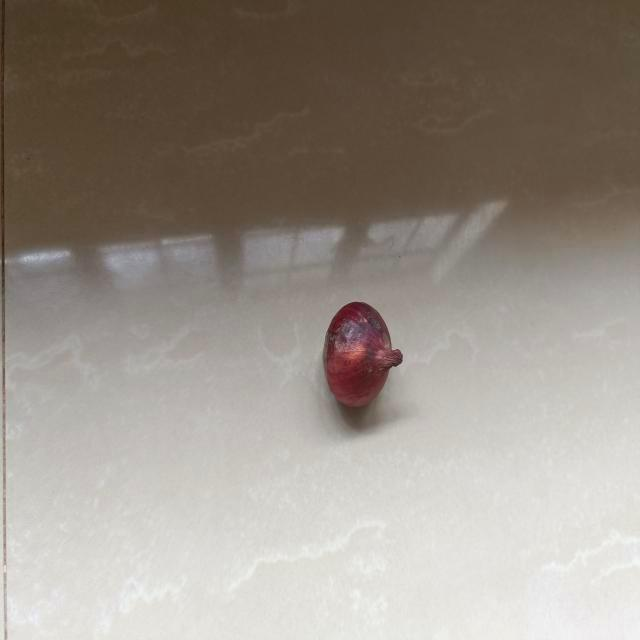onion: (319, 295, 403, 413)
